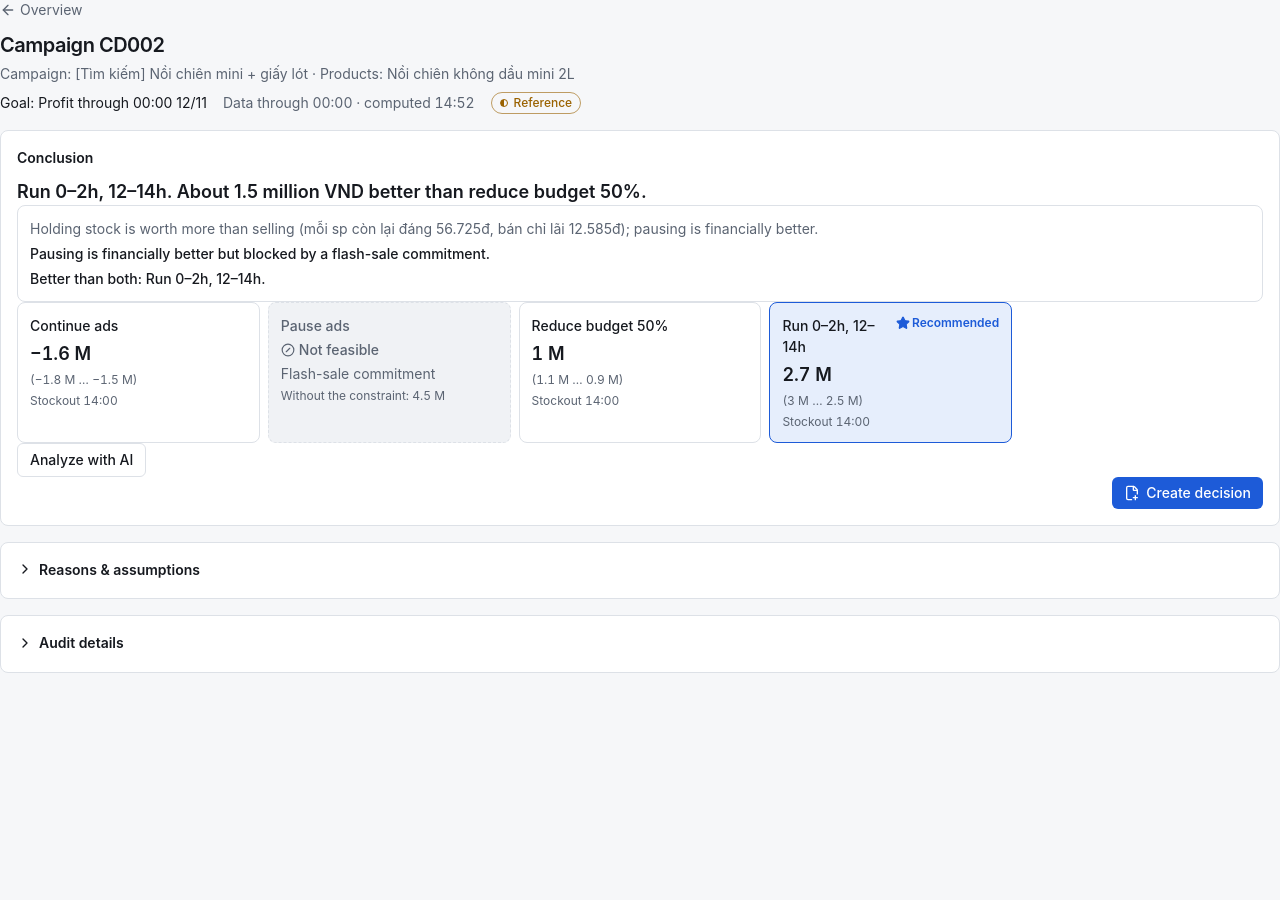
Compare · real API › shows the API message when a re-run fails
Click the button "Reasons & assumptions" at (108,569), box [13,555,204,584]
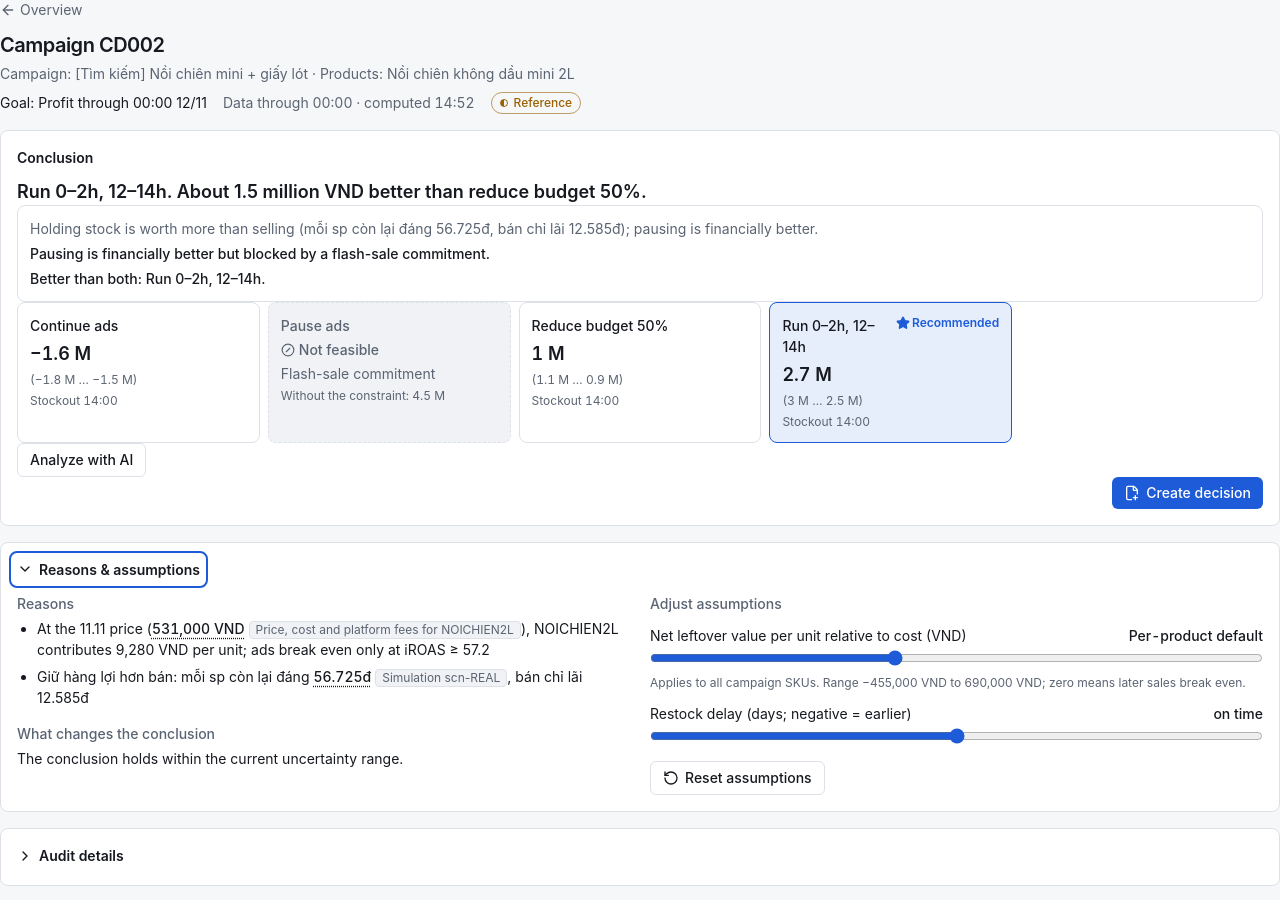
Set the slider labelled "Restock delay (days; negative = earlier) on time" to "-1" at (914,736), box [650,728,1263,744]
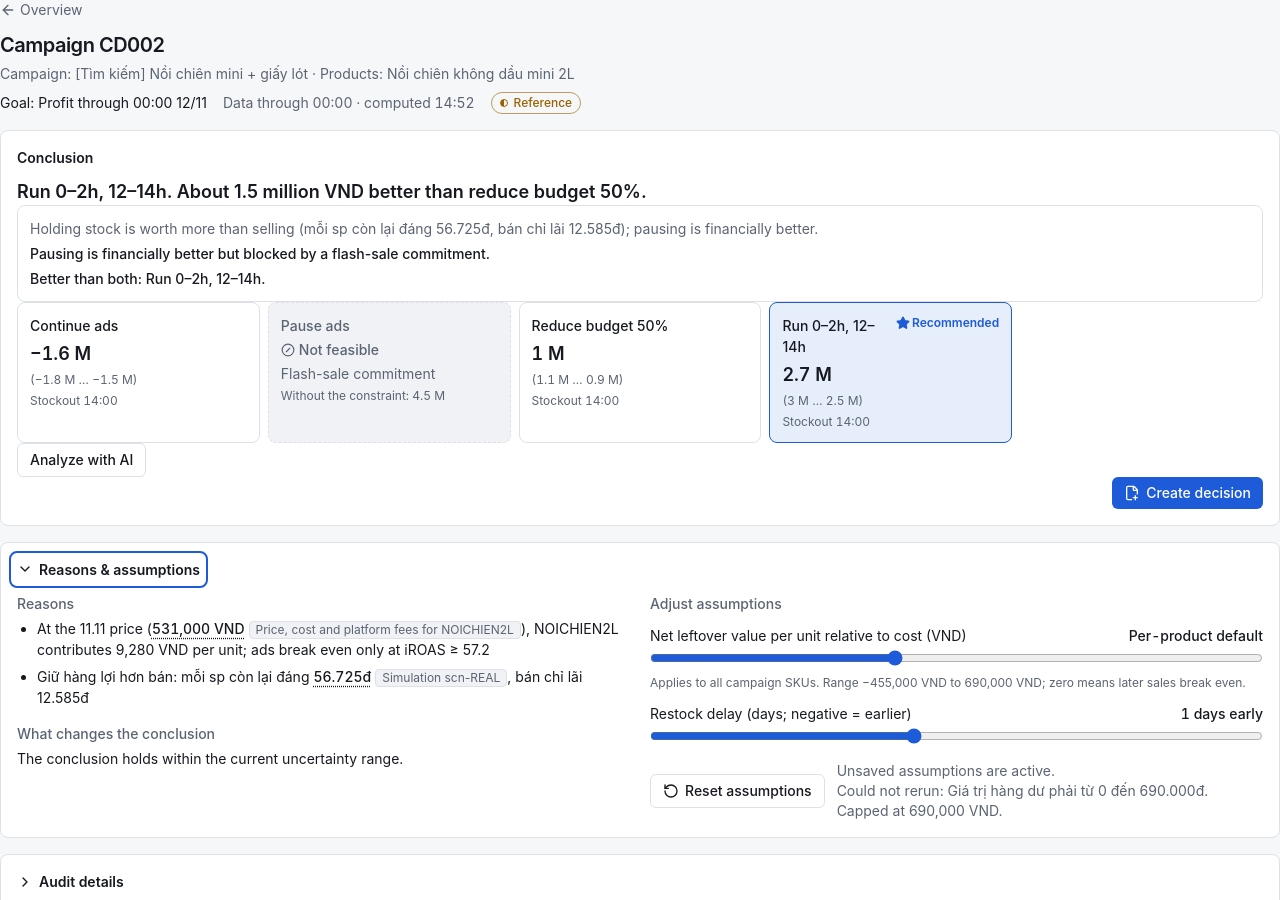
expect the text "Could not rerun: Giá trị hàng dư phải từ 0 đến 690.000đ." is shown: met, box [837,781,1263,801]
